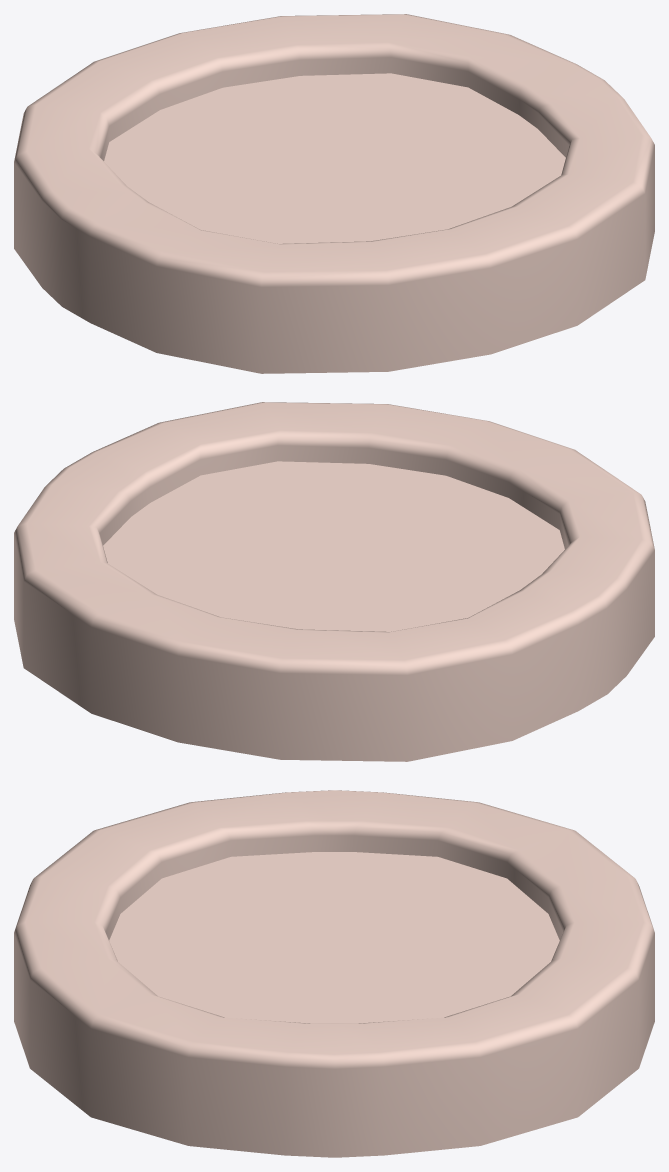
File: Circle Curb.fbx
3 renders of one model, top to bottom at view 1: azimuth 30°, elevation 25°; view 2: azimuth 150°, elevation 25°; view 3: azimuth 270°, elevation 25°, orthographic. The views are drawn at different scales.
Visible parts, largest first — view 1: Circle Curb; view 2: Circle Curb; view 3: Circle Curb.
Part boxes in pixels (x1,y1,x2,y2): Circle Curb: [14, 14, 654, 373]; Circle Curb: [14, 402, 654, 761]; Circle Curb: [14, 790, 654, 1157].
Bounding box in the file's own units: 177 × 29.94 × 176.
